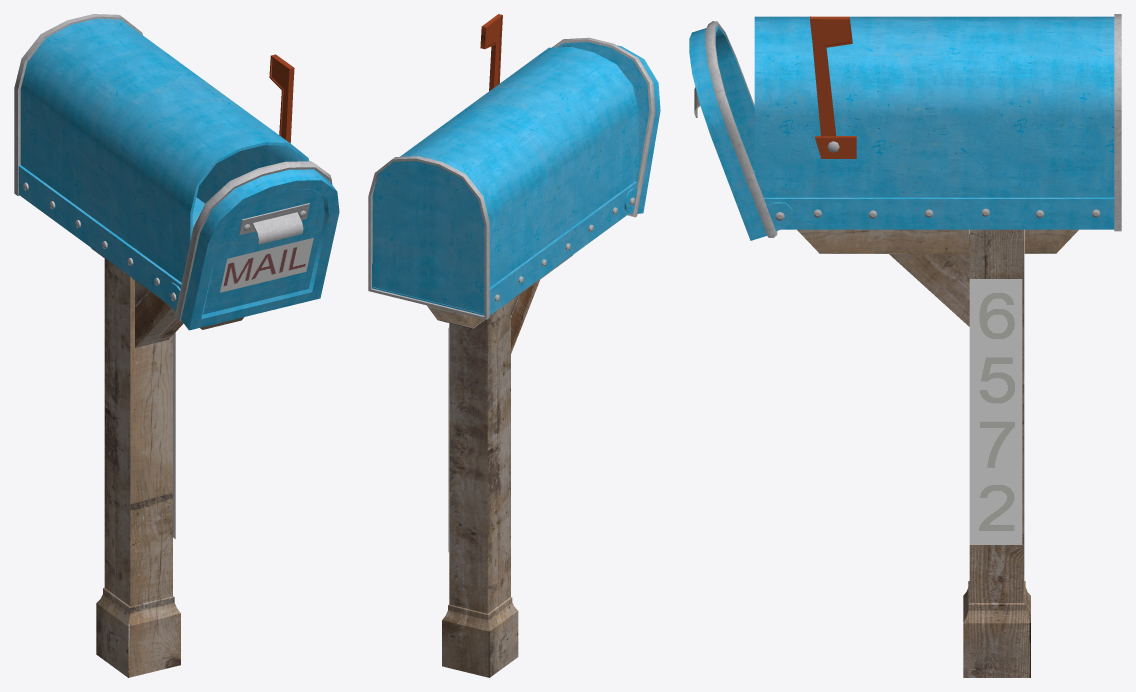
The model's file is Week 9.5 - mailbox v2.fbx.
The picture shows the model from 3 angles, left to right: view 1: azimuth 30°, elevation 25°; view 2: azimuth 150°, elevation 25°; view 3: azimuth 270°, elevation 25°; orthographic projection. The views are drawn at different scales.
Parts seen in each view (by area): view 1: polySurface5; view 2: polySurface5; view 3: polySurface5.
Part boxes in pixels (x1,y1,x2,y2): polySurface5: (14, 14, 339, 677); polySurface5: (368, 14, 660, 677); polySurface5: (689, 14, 1121, 677).
Bounding box in the file's own units: 1.11 × 4.79 × 2.76.
